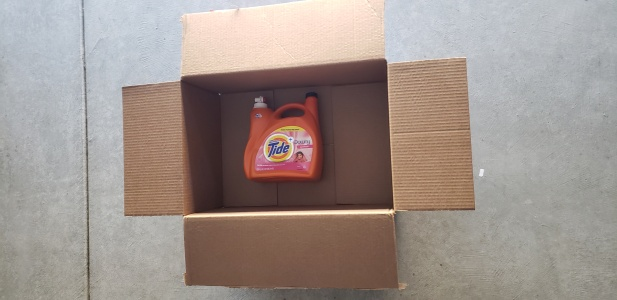innerbox: (182, 74, 392, 212)
outerbox: (125, 13, 476, 290)
product: (243, 97, 320, 180)
